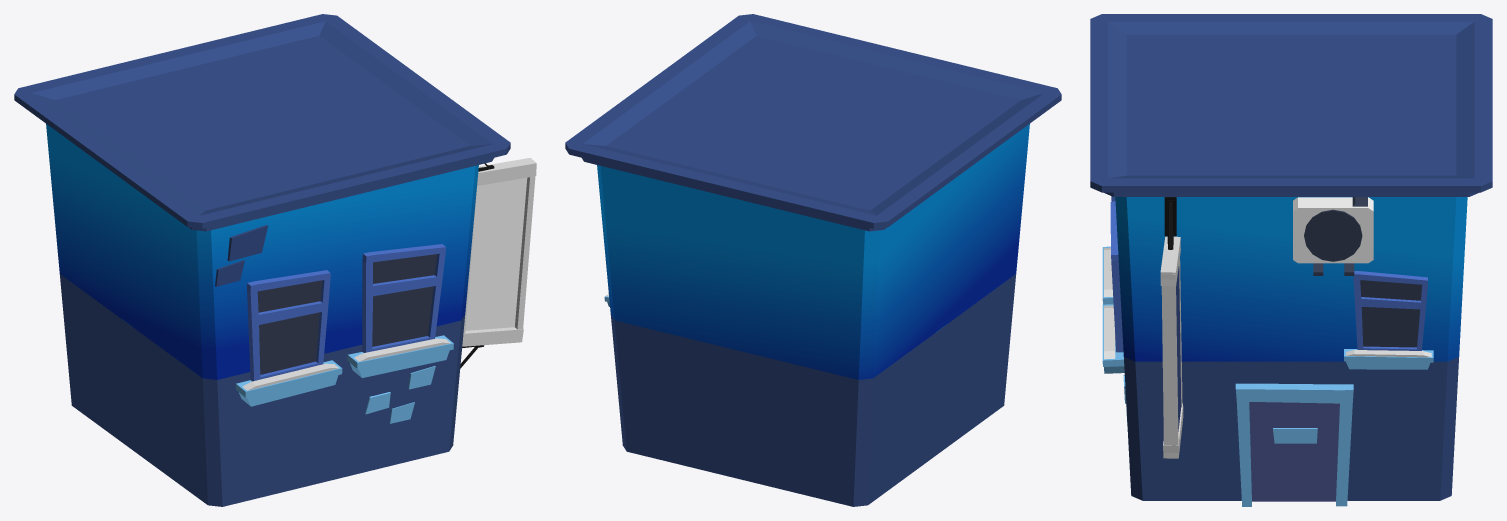
File: building 6.fbx
3 views of the same model, side by side, from view 1: azimuth 30°, elevation 25°; view 2: azimuth 150°, elevation 25°; view 3: azimuth 270°, elevation 25° (orthographic). The views are drawn at different scales.
Visible parts, largest first — view 1: Cube.178; view 2: Cube.178; view 3: Cube.178.
Part boxes in pixels (x1=…): Cube.178: x1=14, y1=14, x2=536, y2=506; Cube.178: x1=565, y1=14, x2=1061, y2=506; Cube.178: x1=1090, y1=14, x2=1492, y2=506.
Size of the model in its own units: 3483 by 2721 by 2949.
Materials: 11 (1 with a texture image).
